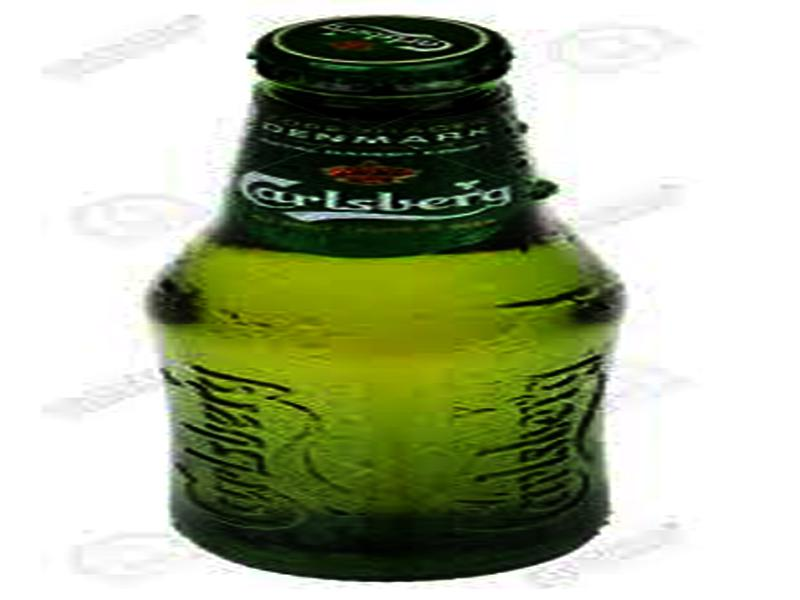Beer: (145, 15, 619, 583)
